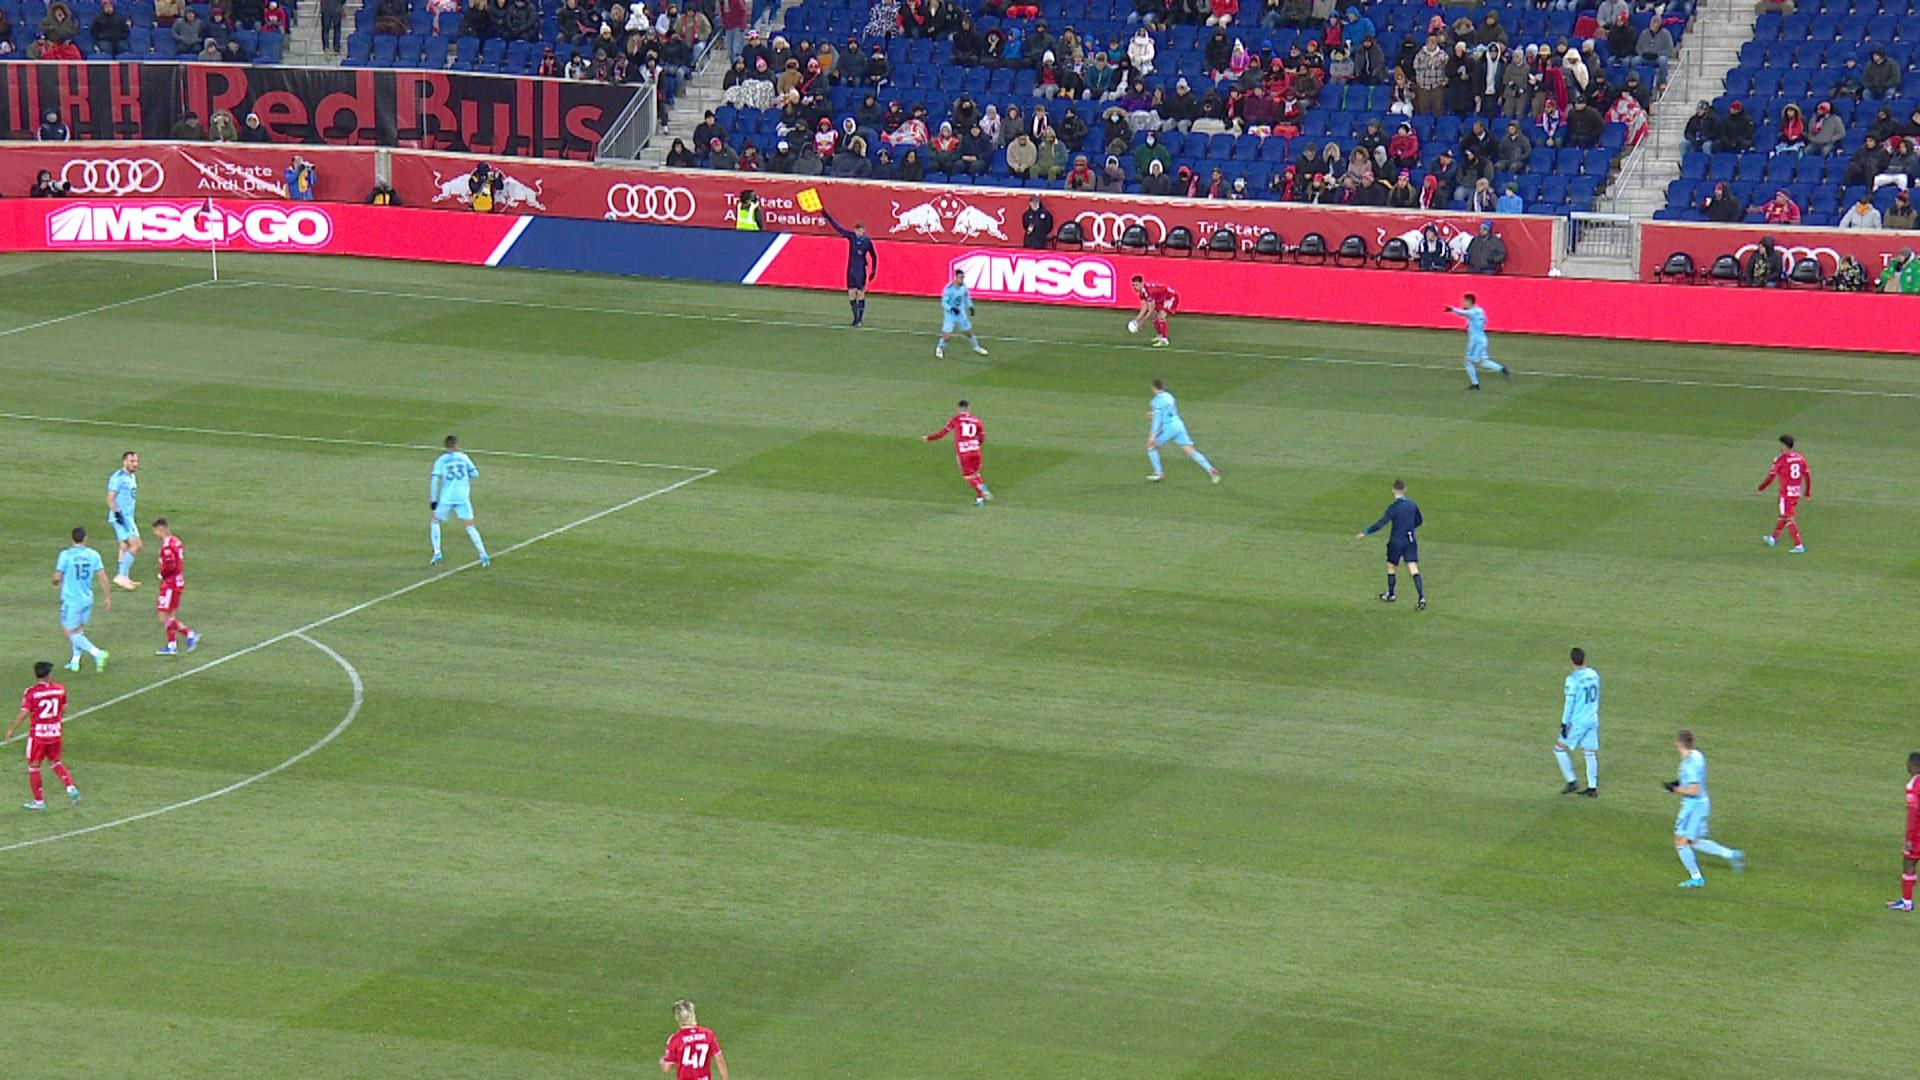football: (1125, 319, 1138, 335)
